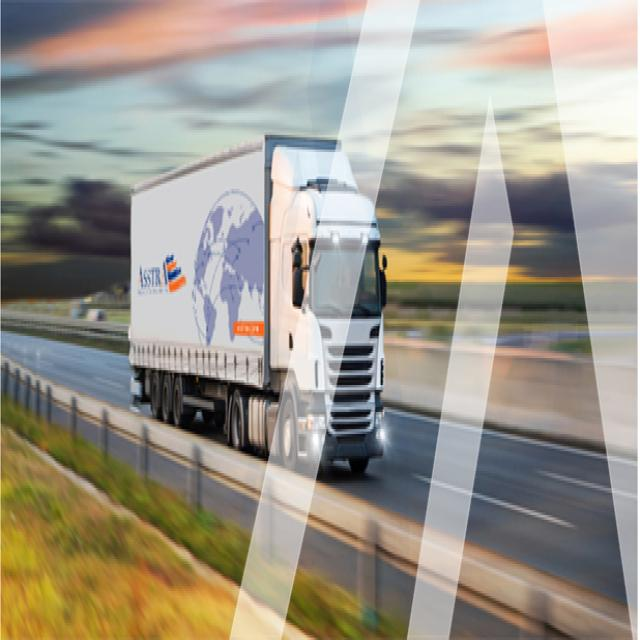truck: (130, 136, 386, 471)
